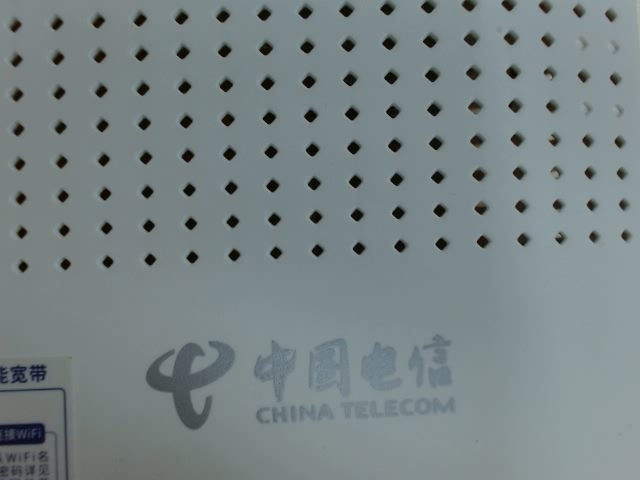ChinaTelecom1: (141, 319, 474, 439)
